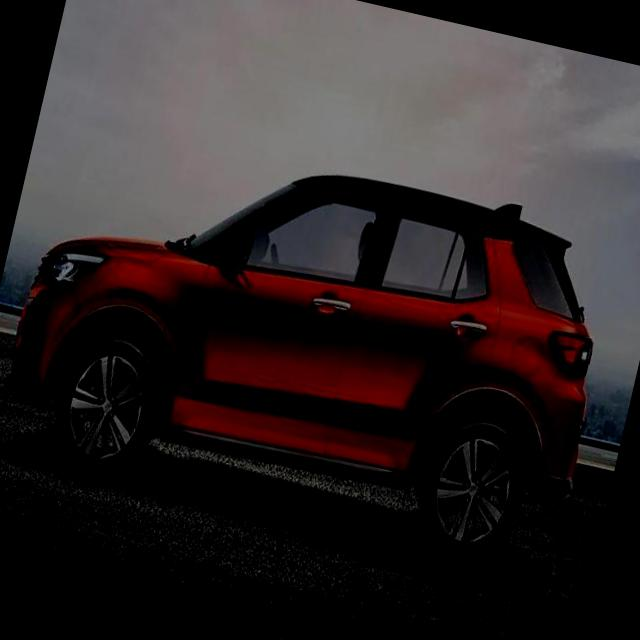PeroduaAtiva: (0, 98, 633, 574)
